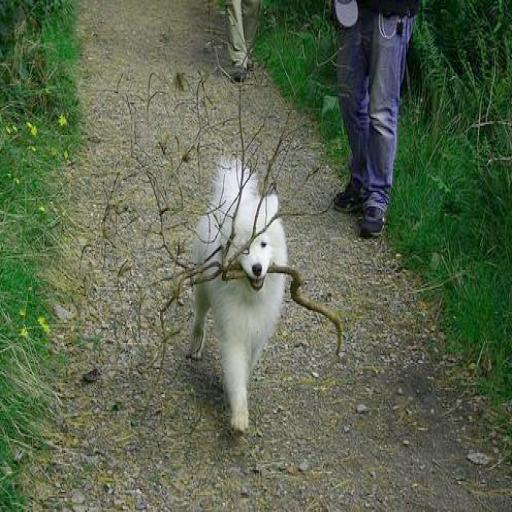dog_face: (222, 190, 284, 291)
